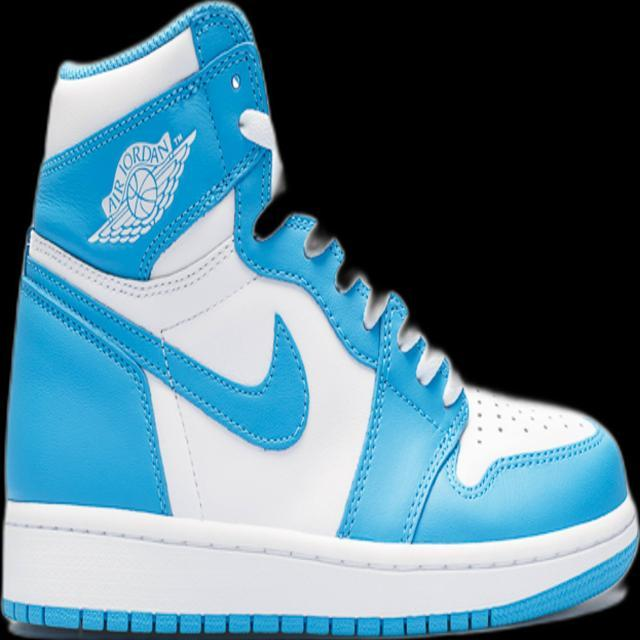J1_InsoleChar: (0, 0, 639, 639)
J1_ShoeLogo: (86, 127, 197, 246)
J1_StitchPattern: (19, 216, 600, 507), (1, 496, 637, 637), (21, 225, 311, 451), (274, 209, 466, 408), (20, 270, 174, 515), (1, 599, 495, 639), (445, 386, 604, 500), (23, 226, 237, 301), (463, 386, 588, 450)
